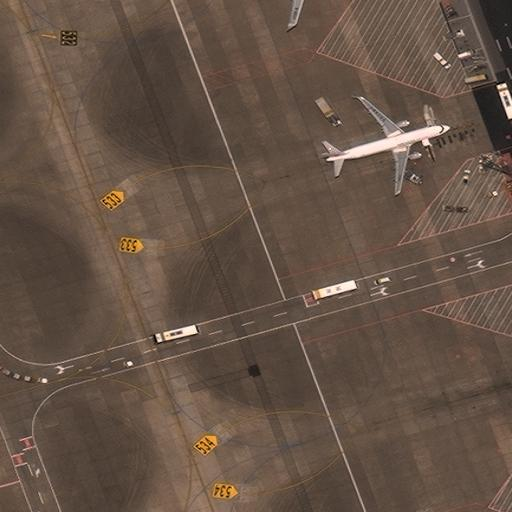Medium Civil Transport: (325, 95, 450, 192)
